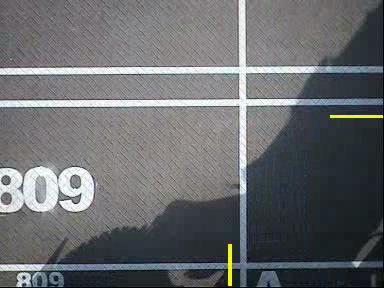groundmarker_2: (97, 11, 170, 46), (95, 162, 169, 196)
